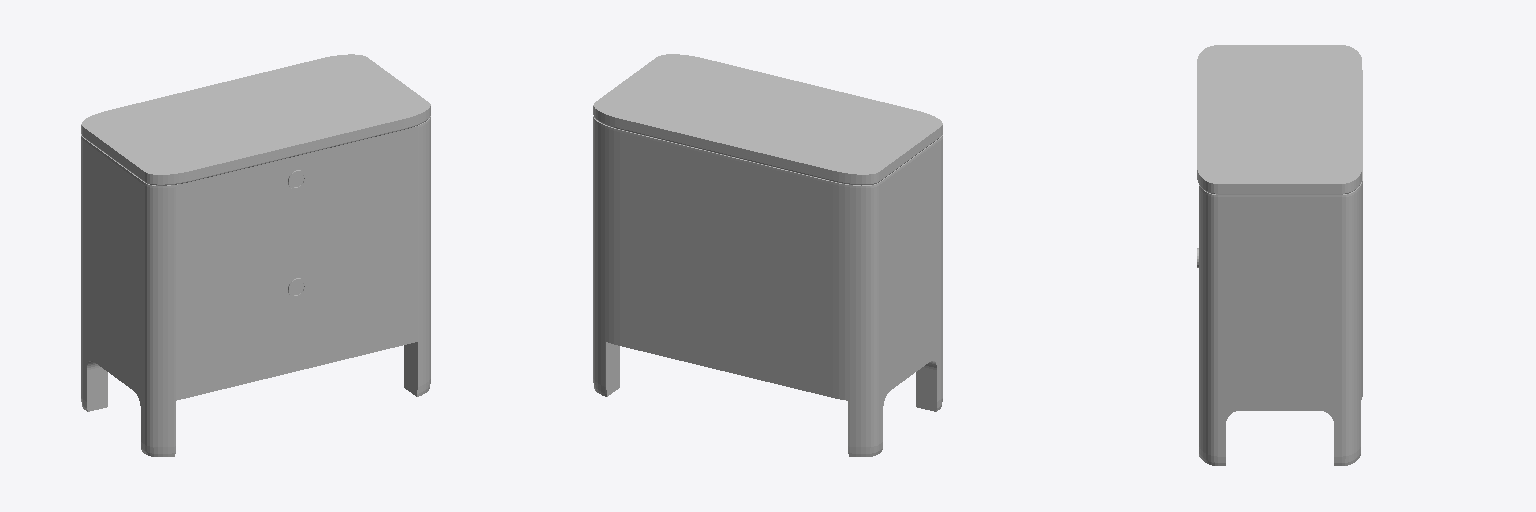
Rendered from StorageFurniture_Busunge2Drawers.obj.
3 renders of one model, left to right at view 1: azimuth 30°, elevation 25°; view 2: azimuth 150°, elevation 25°; view 3: azimuth 270°, elevation 25°, orthographic.
Visible parts, largest first — view 1: obj_0; view 2: obj_0; view 3: obj_0.
Boxes of the visible parts, box(x1,y1,x2,y2) form: obj_0: box(81, 54, 430, 456); obj_0: box(593, 54, 942, 456); obj_0: box(1197, 45, 1362, 465).
Size of the model in its own units: 80 by 75.99 by 40.43.